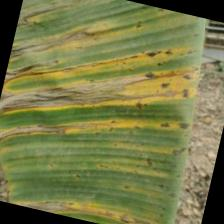pestalotiopsis: (0, 0, 221, 224)
